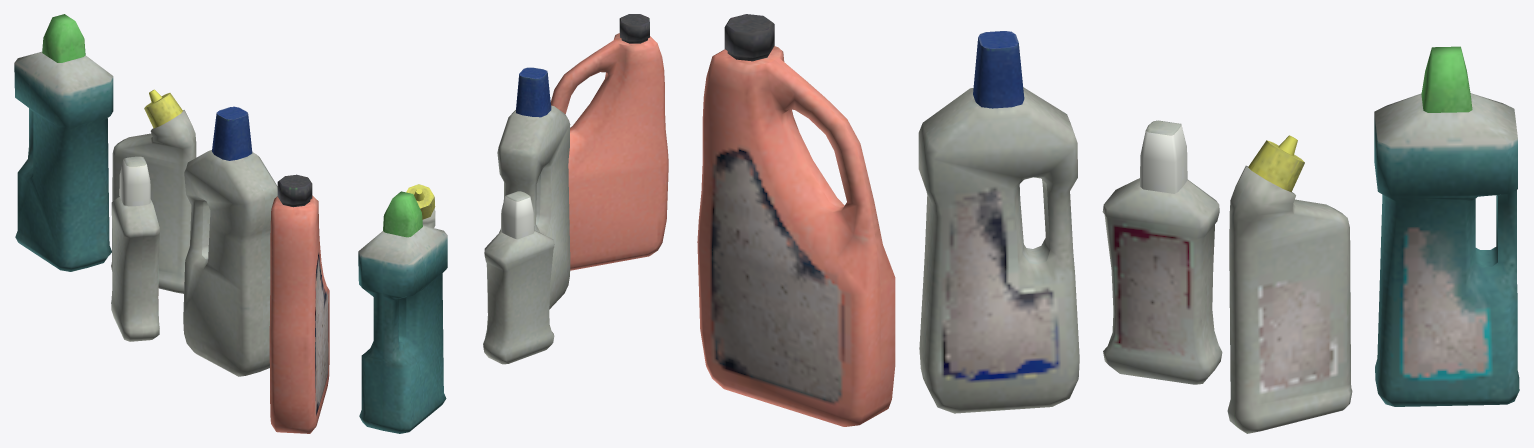
The model's file is sm36_018_washingmaterial01a.fbx.
The picture shows the model from 3 angles, left to right: view 1: azimuth 30°, elevation 25°; view 2: azimuth 150°, elevation 25°; view 3: azimuth 270°, elevation 25°; orthographic projection. The views are drawn at different scales.
Parts seen in each view (by area): view 1: LOD_1_Group_0_Sub_1__sm36_018_WashingMaterial01A_A_Mat; view 2: LOD_1_Group_0_Sub_1__sm36_018_WashingMaterial01A_A_Mat; view 3: LOD_1_Group_0_Sub_1__sm36_018_WashingMaterial01A_A_Mat.
Boxes of the visible parts, x1=… form: LOD_1_Group_0_Sub_1__sm36_018_WashingMaterial01A_A_Mat: x1=14, y1=14, x2=329, y2=433; LOD_1_Group_0_Sub_1__sm36_018_WashingMaterial01A_A_Mat: x1=358, y1=14, x2=668, y2=433; LOD_1_Group_0_Sub_1__sm36_018_WashingMaterial01A_A_Mat: x1=697, y1=14, x2=1519, y2=433.
Bounding box in the file's own units: 0.1342 × 0.2733 × 0.5631.
